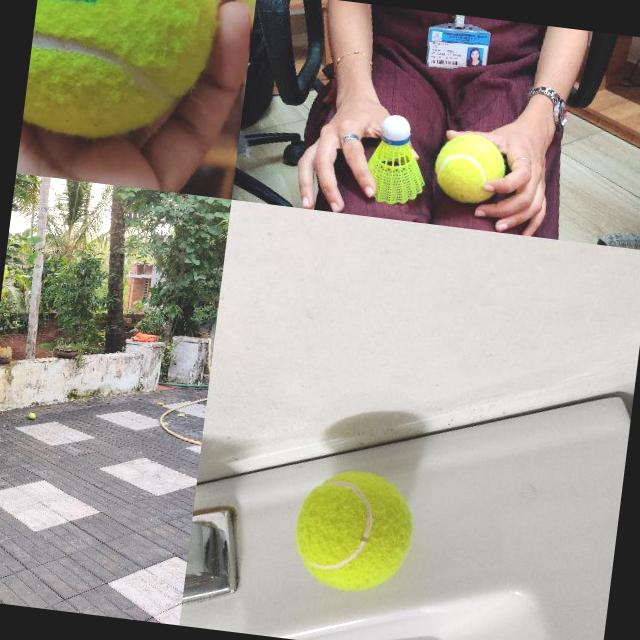Tennis Ball: (21, 0, 220, 150), (286, 462, 419, 598), (432, 131, 508, 206), (28, 412, 36, 420)
